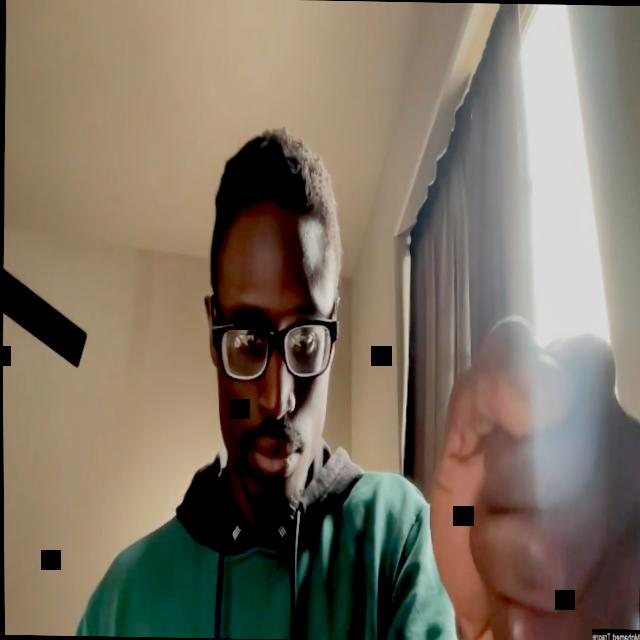Rock: (424, 312, 640, 640)
